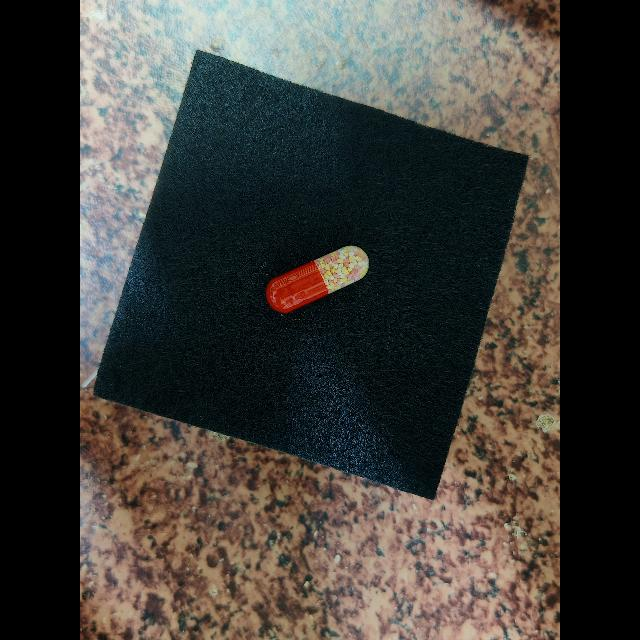Intact Capsule: (266, 245, 369, 313)
